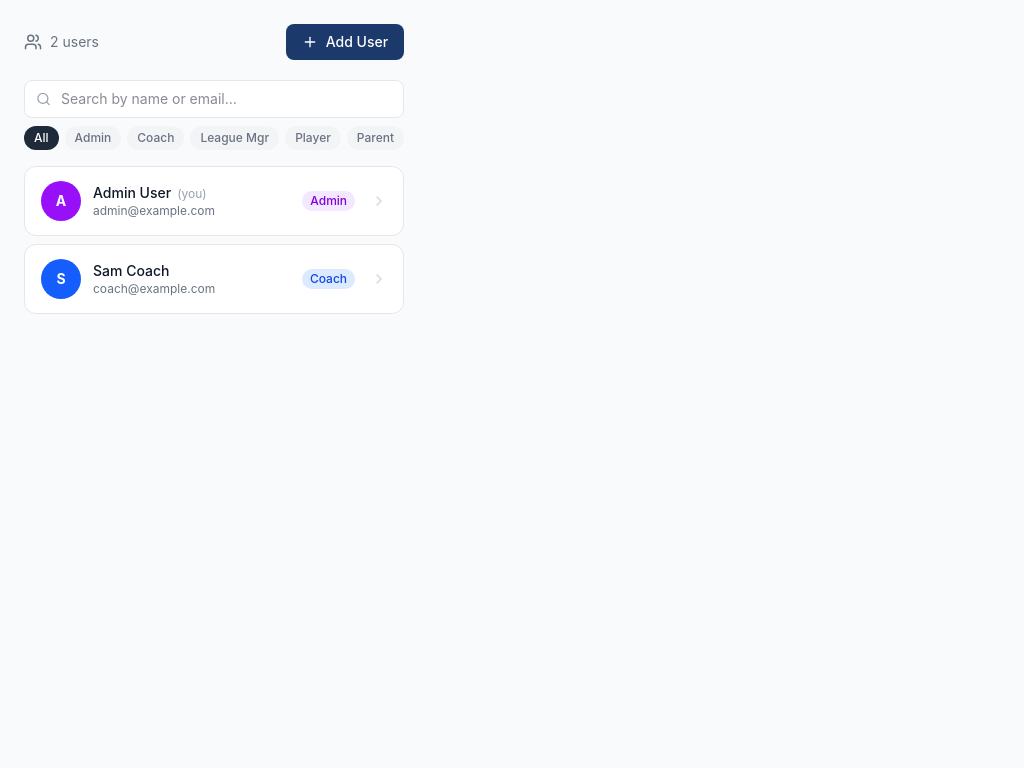
Scenario: UsersPage — slide-over opens on card click › opens the EditPanel dialog when a user card is clicked
expect the text "Sam Coach" is shown: met, box [93,262,170,279]
Click the button "S Sam Coach coach@example.com Coach" at (214, 279), box [24,244,404,314]
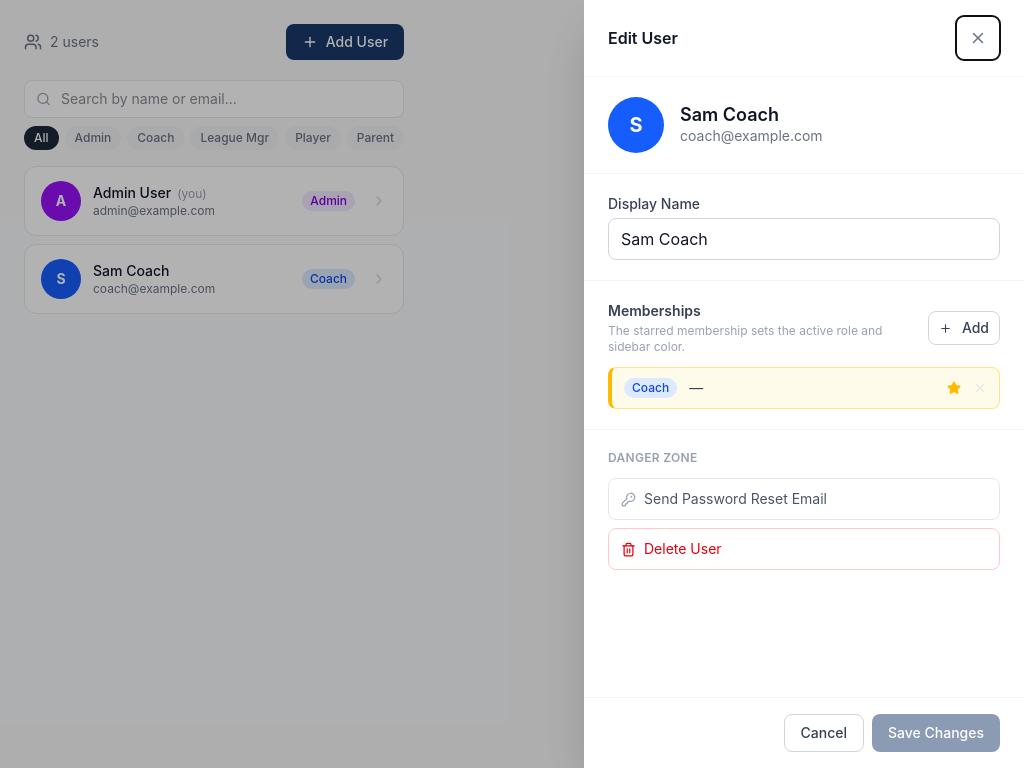
expect the dialog is shown: met, box [584,0,1023,767]
expect the field labelled "Display Name" is shown: met, box [608,218,1000,260]
